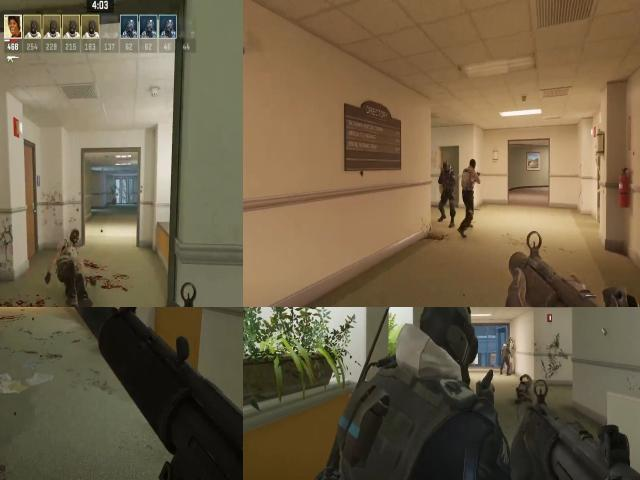CT: (316, 363, 510, 480), (440, 158, 457, 199), (499, 342, 513, 371)
CT-Head: (400, 307, 485, 377), (440, 159, 451, 175), (515, 332, 530, 336)
Dead: (46, 218, 96, 307), (512, 374, 534, 404)
T: (457, 156, 480, 199)
T-Head: (463, 154, 479, 172)
